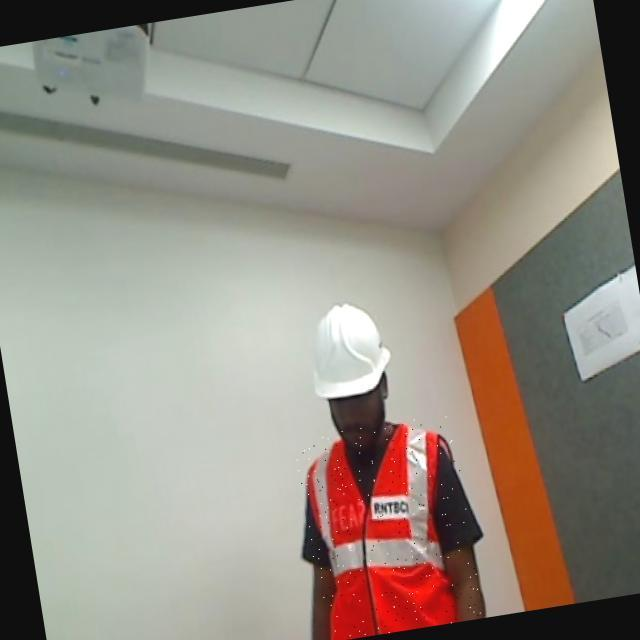helmet: (305, 295, 401, 407)
vest: (292, 413, 484, 640)
